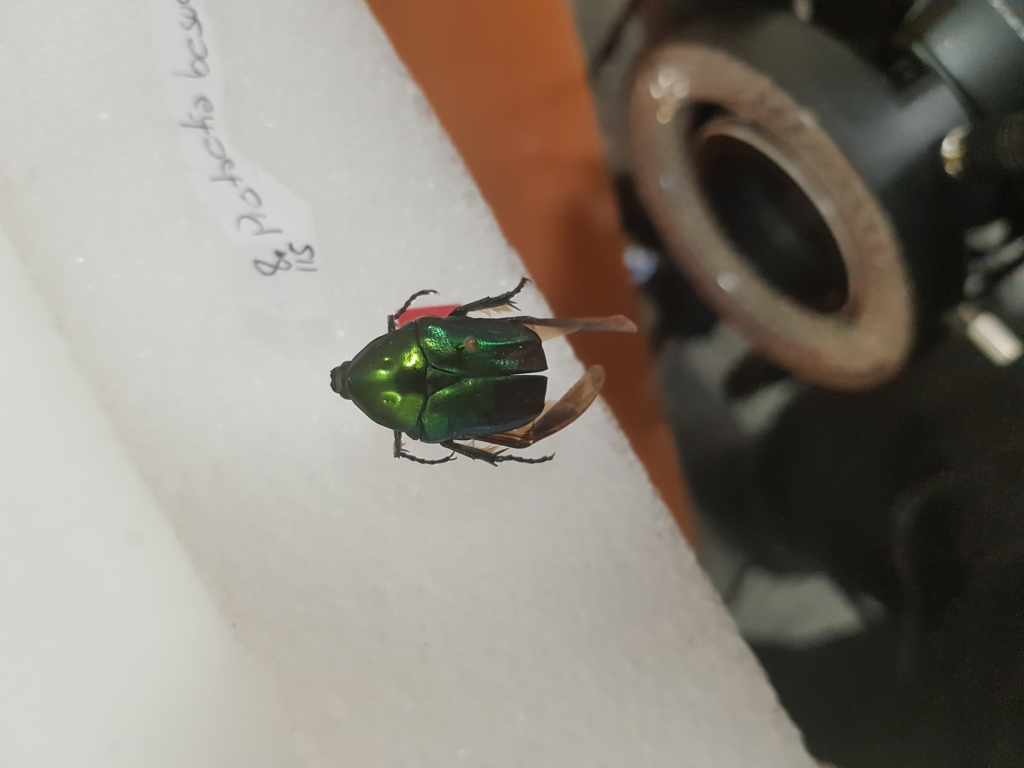Protaetia_besucheti: (314, 270, 649, 474)
